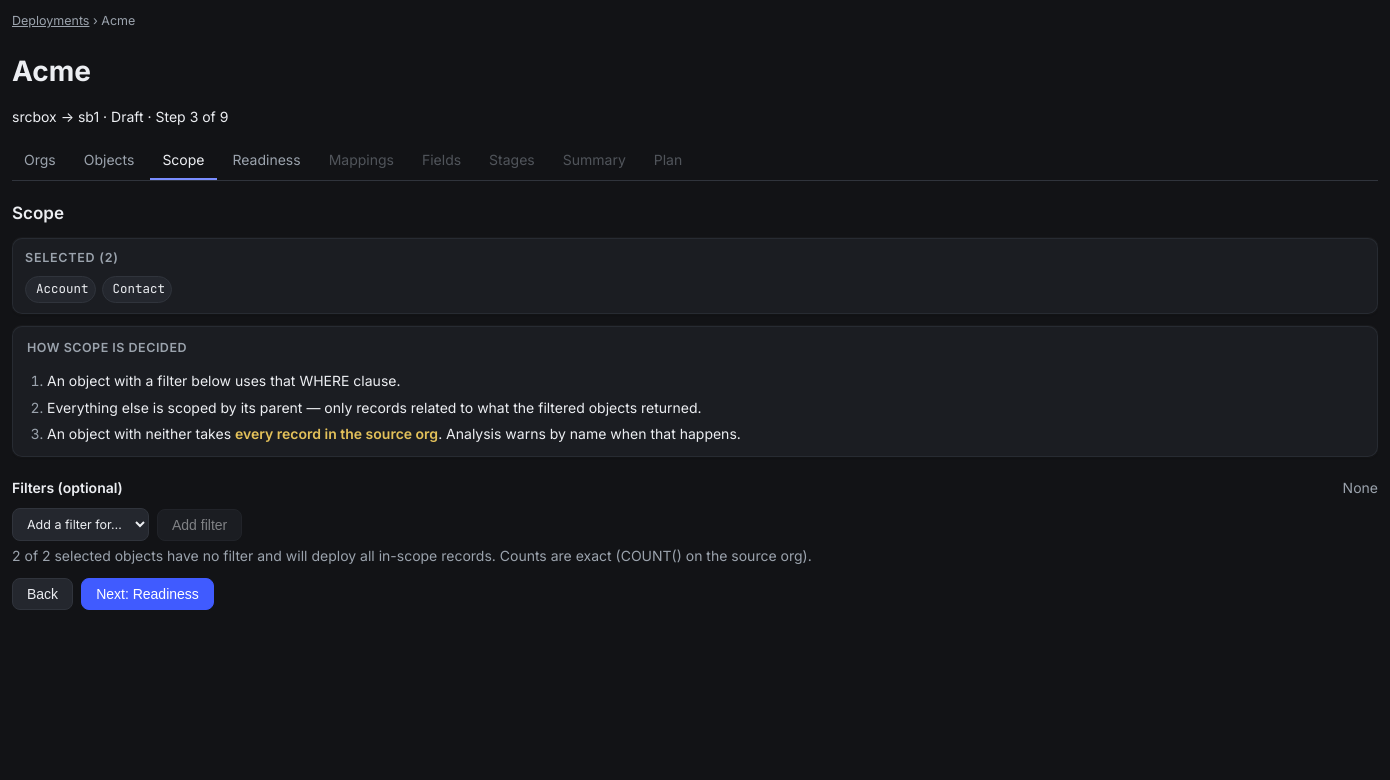
Test: StepScope (Step 3) › adds a filter row for the chosen object only
Check: the heading "Scope" is shown, box left=12, top=202, right=64, bottom=222
Select "Contact" in the dropdown named "Add a filter for" at (80, 525), box left=12, top=508, right=149, bottom=541
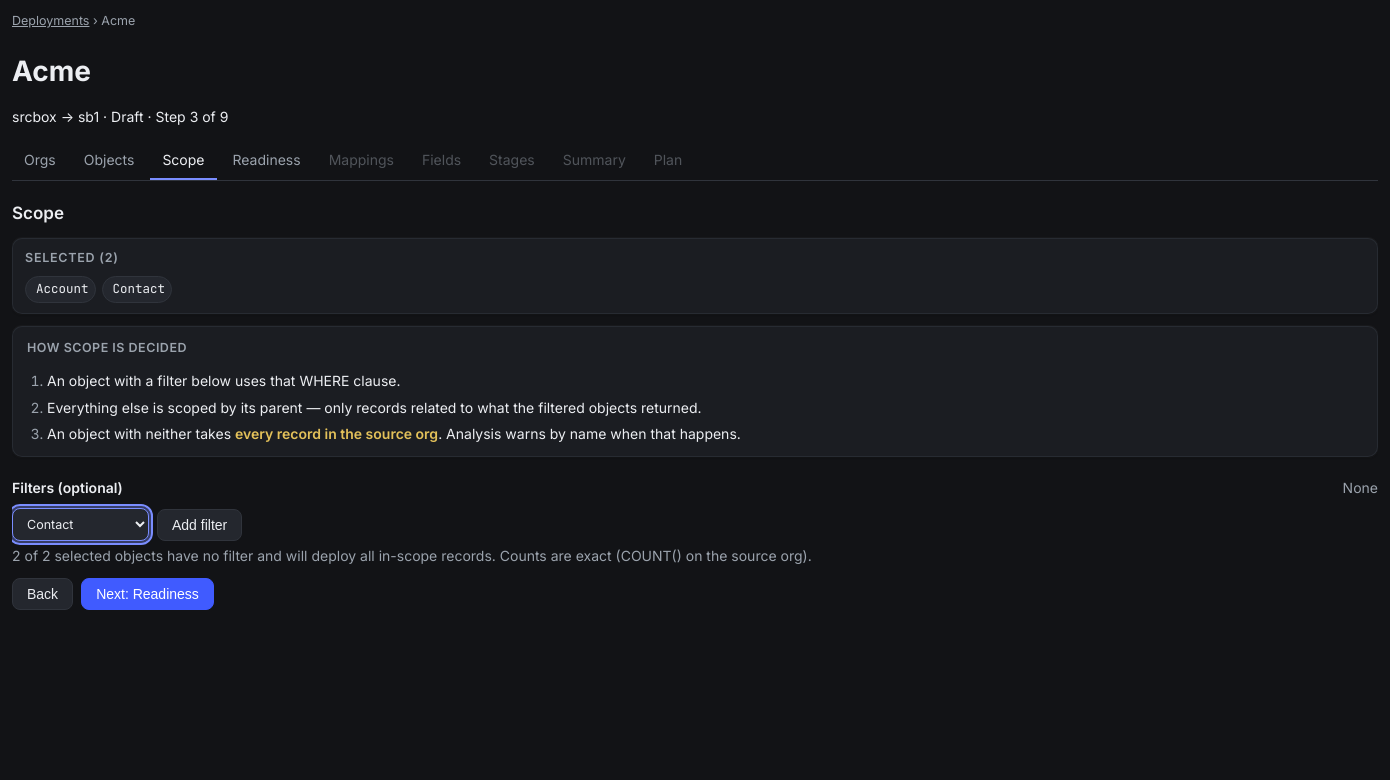
Click the button "Add filter" at (200, 525), box left=157, top=509, right=242, bottom=541
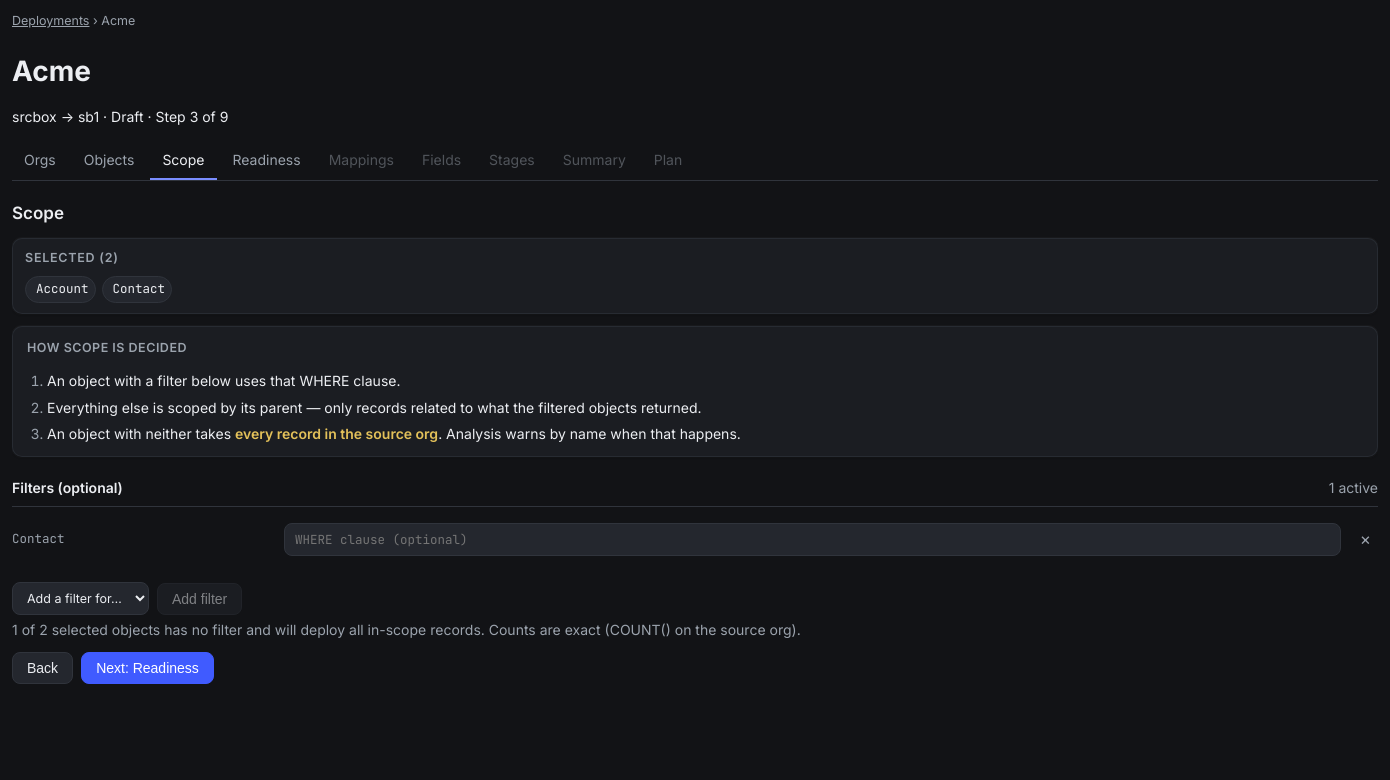
Check: the element with test id "filter-Contact" is shown, box left=12, top=515, right=1378, bottom=564
